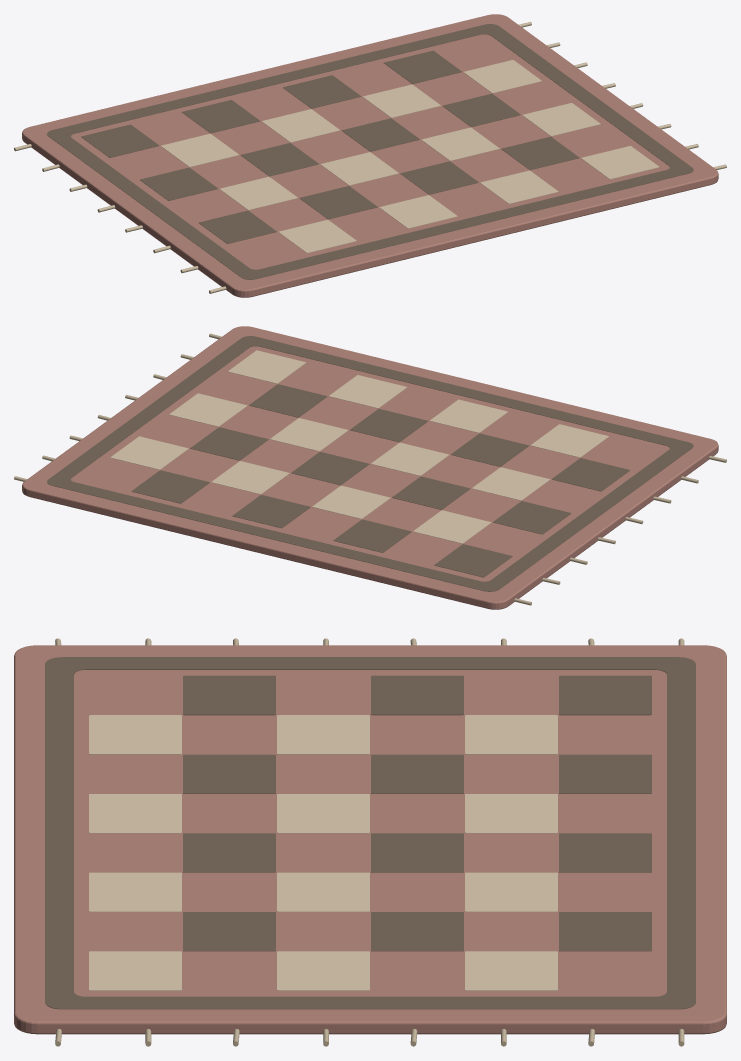
File: picnic.glb
3 renders of one model, top to bottom at view 1: azimuth 30°, elevation 25°; view 2: azimuth 150°, elevation 25°; view 3: azimuth 270°, elevation 25°, orthographic. The views are drawn at different scales.
Parts seen in each view (by area): view 1: closed-textile-backing, woven-border, woven-check-2-0, woven-check-2-4, woven-check-0-0, woven-check-0-4, woven-check-1-3, woven-check-1-7, woven-check-2-2, woven-check-3-3, woven-check-3-5, woven-check-3-7 (+14 smaller); view 2: closed-textile-backing, woven-border, woven-check-0-0, woven-check-0-2, woven-check-1-7, woven-check-5-7, woven-check-0-4, woven-check-0-6, woven-check-1-1, woven-check-1-3, woven-check-1-5, woven-check-2-0 (+14 smaller); view 3: closed-textile-backing, woven-border, woven-check-0-0, woven-check-2-0, woven-check-4-0, woven-check-0-2, woven-check-0-4, woven-check-0-6, woven-check-1-1, woven-check-1-5, woven-check-1-7, woven-check-2-2 (+14 smaller).
Part boxes in pixels (<box>): closed-textile-backing: <box>22,14,718,297</box>; woven-border: <box>47,24,693,279</box>; woven-check-2-0: <box>140,167,218,200</box>; woven-check-2-4: <box>341,118,419,151</box>; woven-check-0-0: <box>81,124,159,157</box>; woven-check-0-4: <box>283,75,361,108</box>; woven-check-1-3: <box>262,109,339,142</box>; woven-check-1-7: <box>463,60,541,93</box>; woven-check-2-2: <box>240,143,318,176</box>; woven-check-3-3: <box>320,152,398,185</box>; woven-check-3-5: <box>421,127,499,160</box>; woven-check-3-7: <box>522,103,600,136</box>; closed-textile-backing: <box>22,326,718,609</box>; woven-border: <box>47,336,693,591</box>; woven-check-0-0: <box>434,544,512,577</box>; woven-check-0-2: <box>333,519,411,552</box>; woven-check-1-7: <box>110,436,188,469</box>; woven-check-5-7: <box>228,350,306,383</box>; woven-check-0-4: <box>232,495,310,528</box>; woven-check-0-6: <box>131,470,209,503</box>; woven-check-1-1: <box>413,510,491,543</box>; woven-check-1-3: <box>312,485,390,518</box>; woven-check-1-5: <box>211,461,289,494</box>; woven-check-2-0: <box>493,501,571,534</box>; closed-textile-backing: <box>14,645,726,1034</box>; woven-border: <box>45,657,695,1009</box>; woven-check-0-0: <box>559,675,651,715</box>; woven-check-2-0: <box>371,675,463,715</box>; woven-check-4-0: <box>183,675,275,715</box>; woven-check-0-2: <box>559,754,651,793</box>; woven-check-0-4: <box>559,833,651,872</box>; woven-check-0-6: <box>559,912,651,951</box>; woven-check-1-1: <box>465,715,557,754</box>; woven-check-1-5: <box>465,872,557,911</box>; woven-check-1-7: <box>465,951,557,990</box>; woven-check-2-2: <box>371,754,463,793</box>.
Size of the model in its own units: 1.97 by 0.0295 by 1.47.
